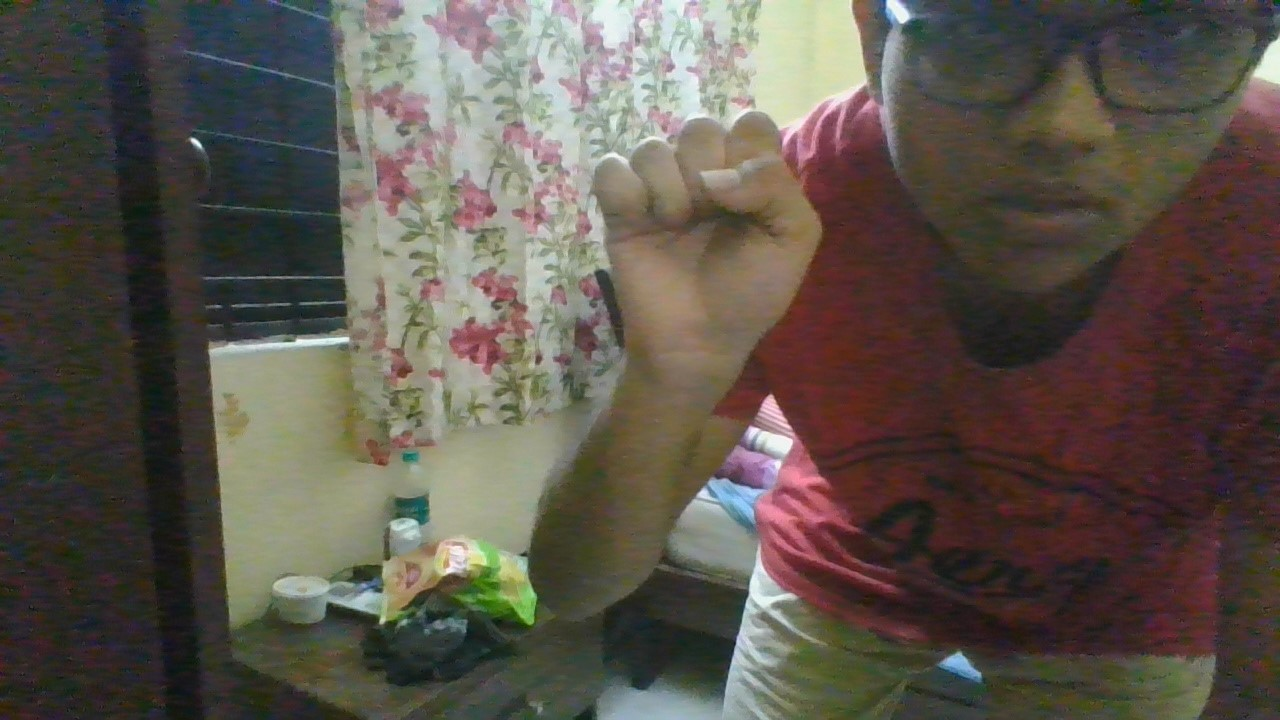s: (589, 104, 830, 385)
